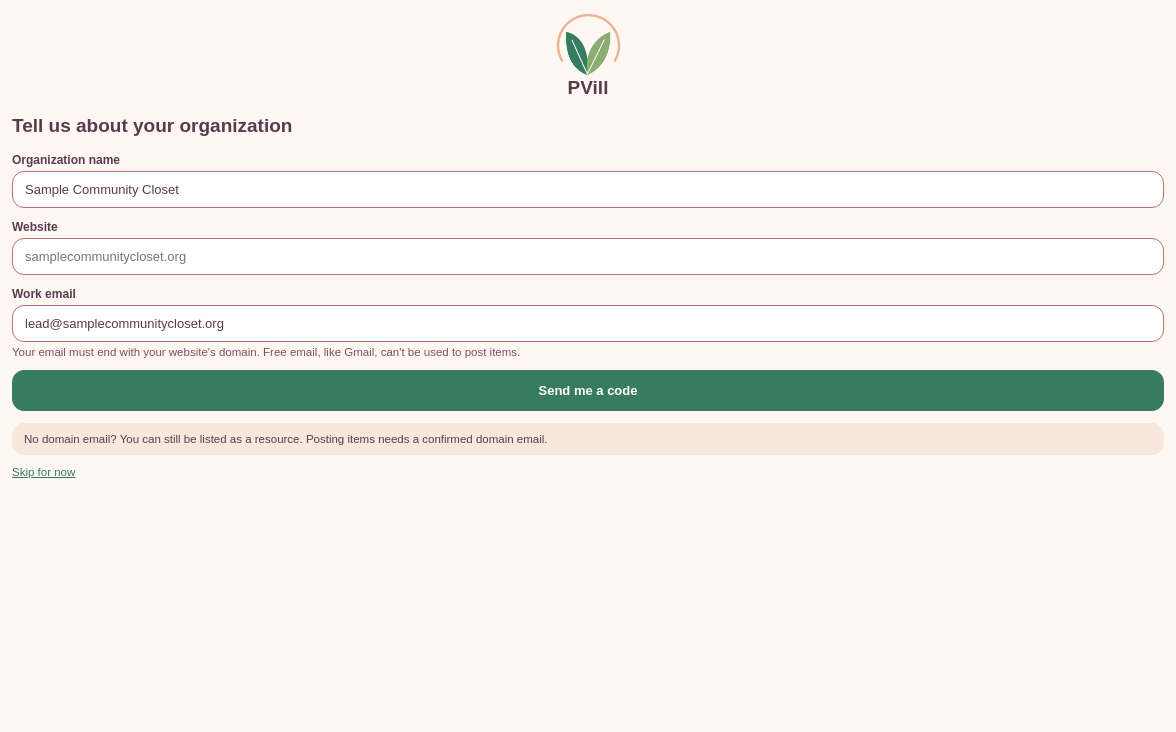
Scenario: OrgSignupPage › shows other errors at the top
In the field labelled "Website": (588, 256) top-left (12, 238), bottom-right (1164, 274), type "closet.org"
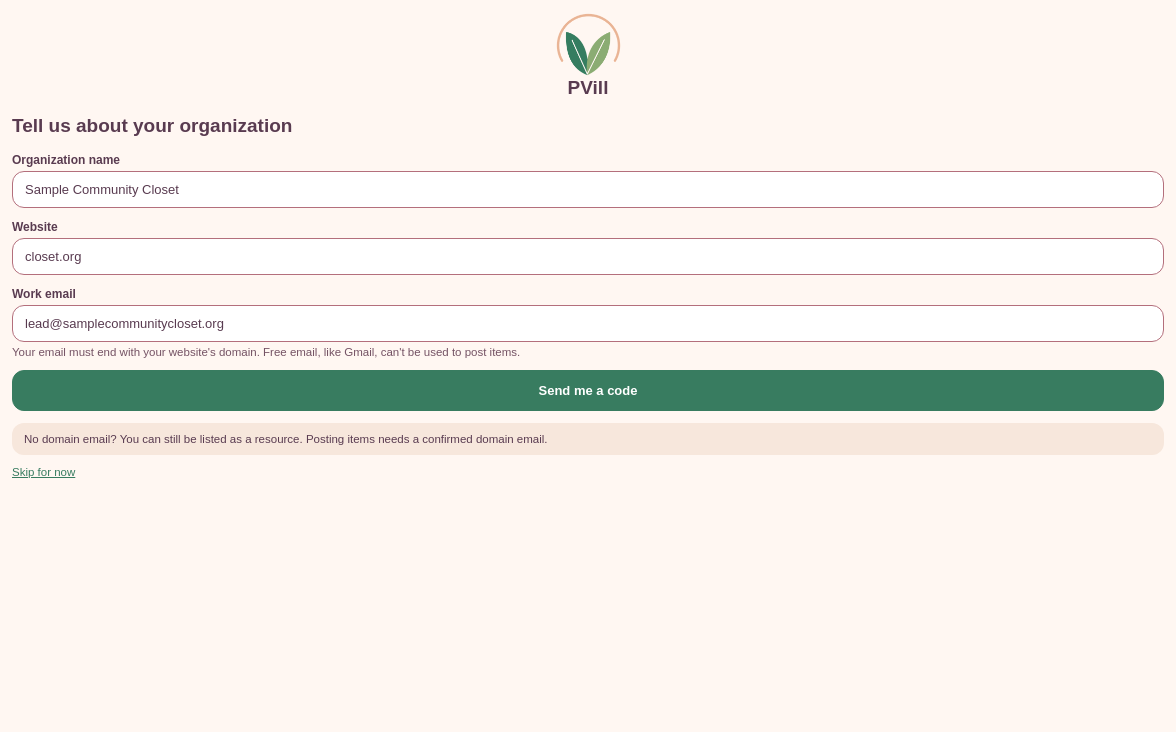
Click the button "Send me a code": (588, 390) top-left (12, 370), bottom-right (1164, 410)
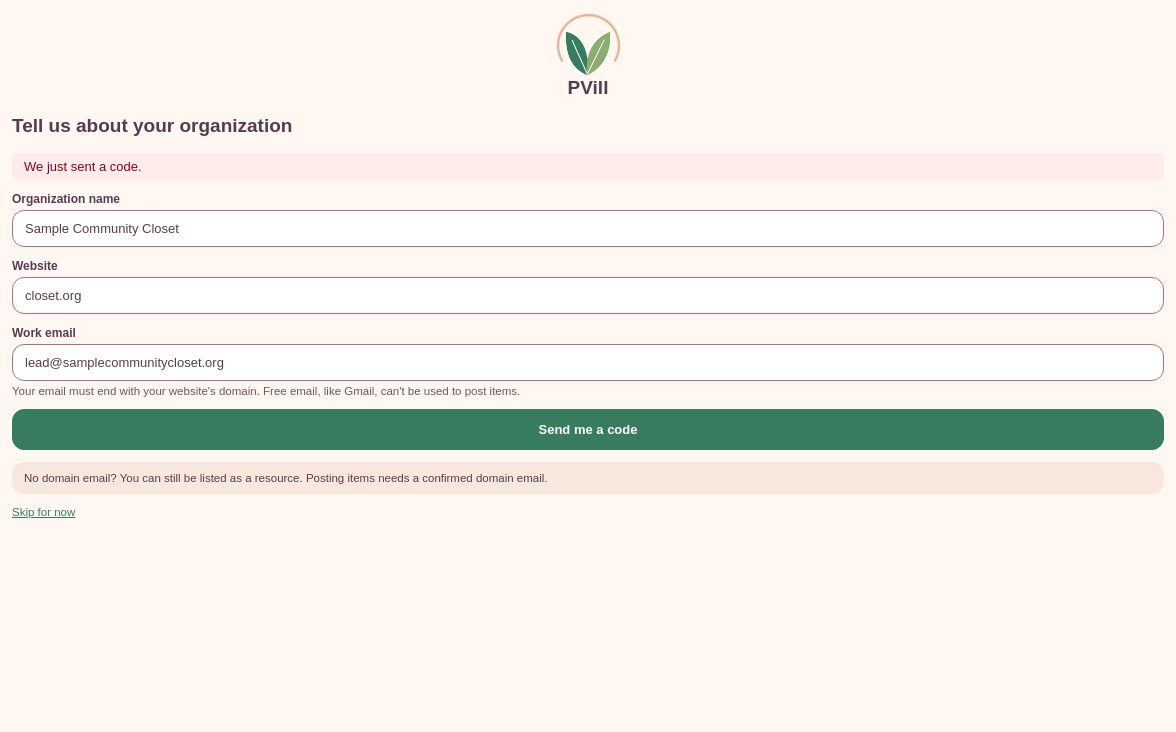
Check: the text "We just sent a code." is shown, box top-left (12, 152), bottom-right (1164, 180)
